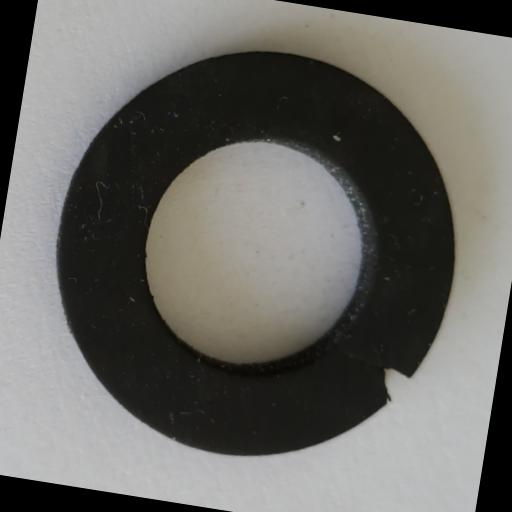defect: (371, 362, 412, 406)
